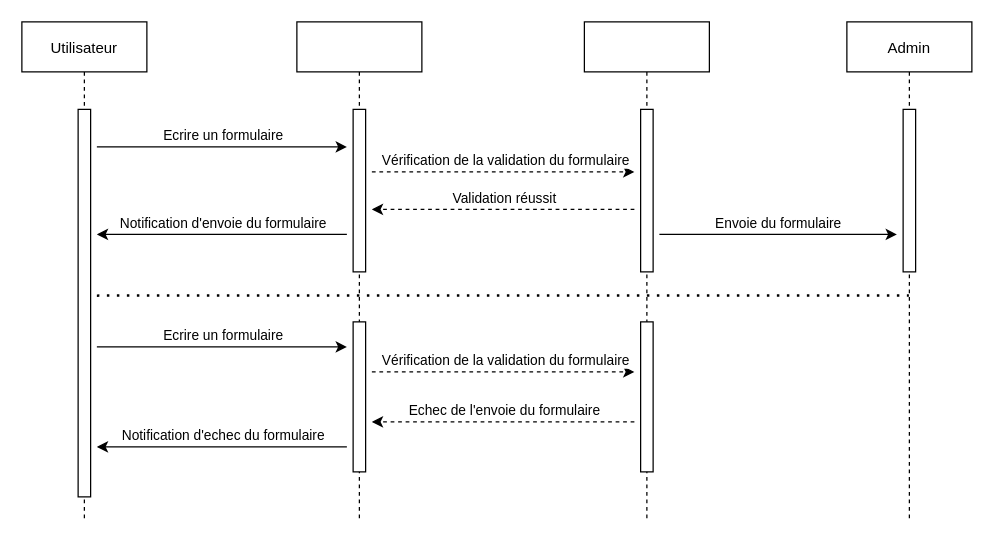
Some shapes in this 994 by 544 pixel diagram are drawn without their labels. Each missing label, with the centre of its shape:
Base de données: point (646, 271)
Blog: point (359, 271)
